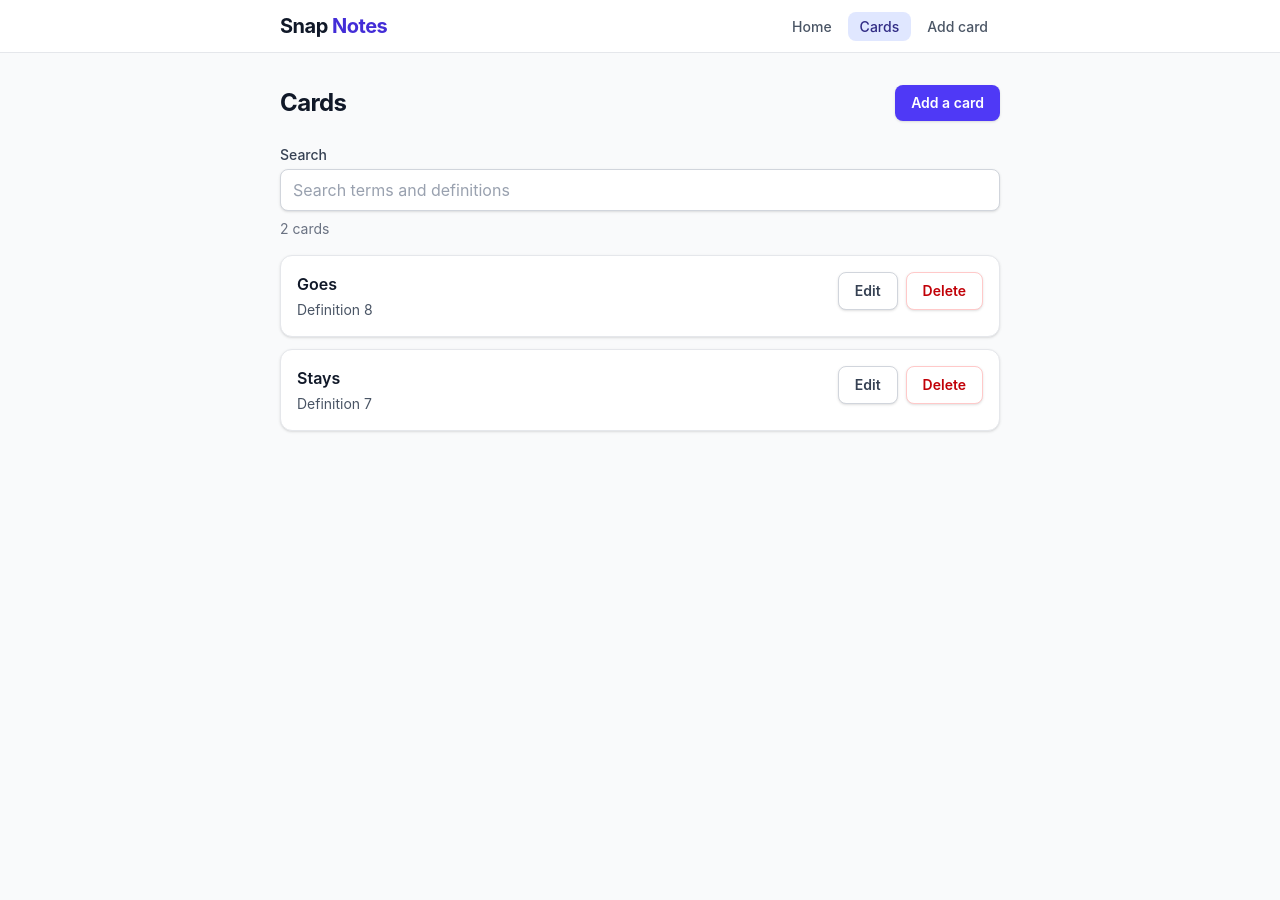
Scenario: ListPage › deletes a card after confirmation and keeps the others
The width and height of the screenshot is (1280, 900).
Click the button named "Delete Goes".
click(944, 291)  # box [906,272,983,310]
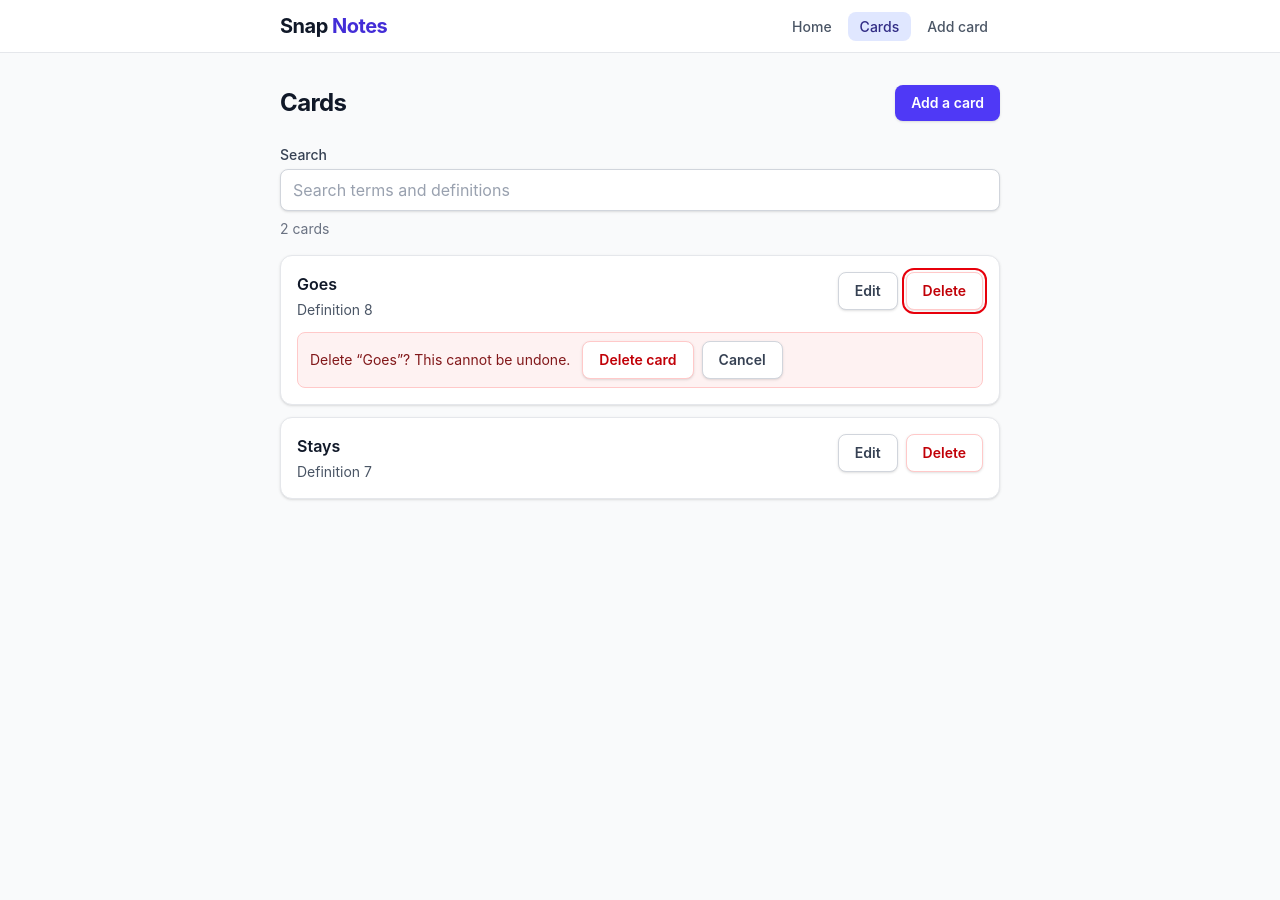
Click the button "Delete card".
click(638, 360)  # box [582,341,694,379]
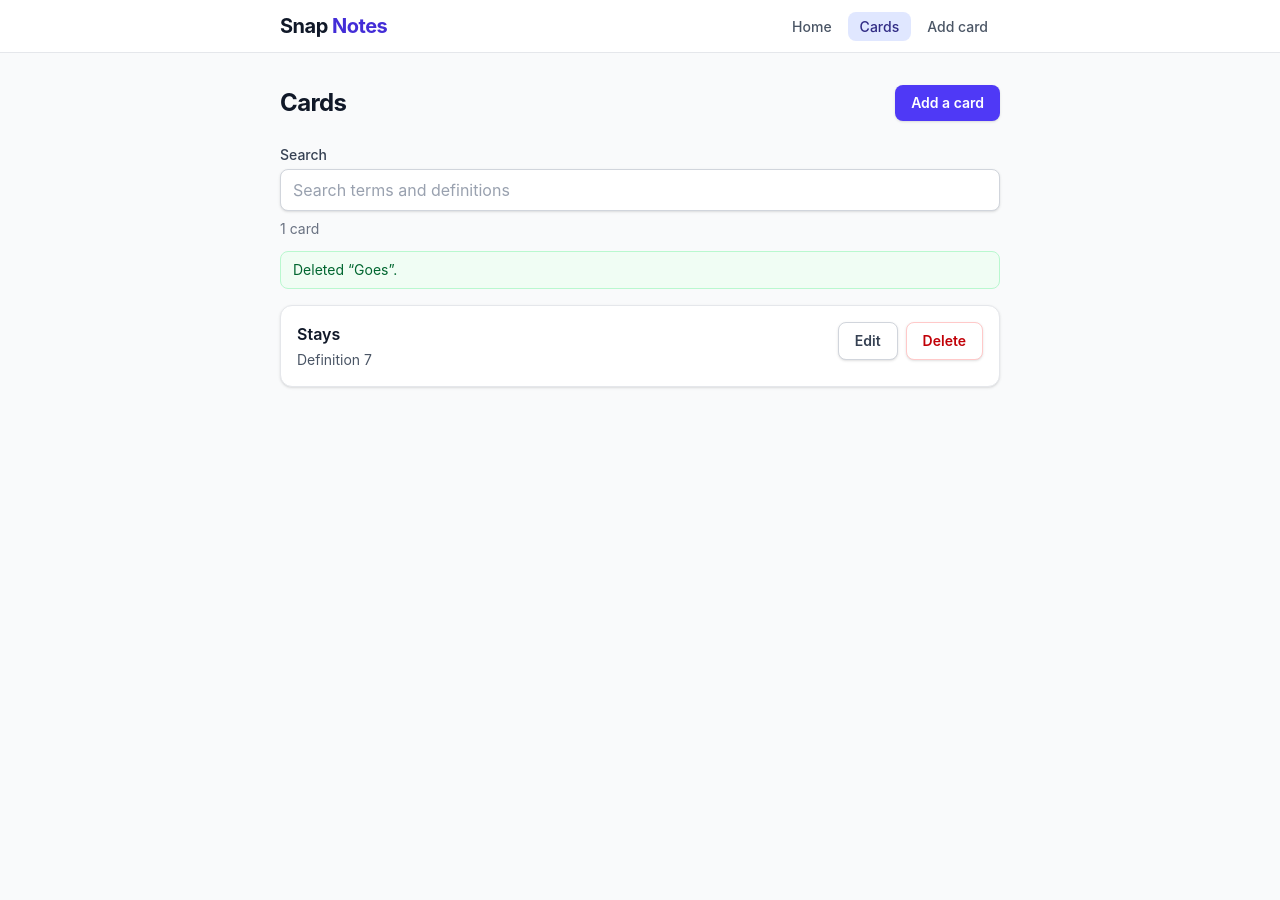
Check: the heading "Stays" is shown, box [297,324,340,344]
Check: the text "Deleted “Goes”." is shown, box [280,251,1000,289]
